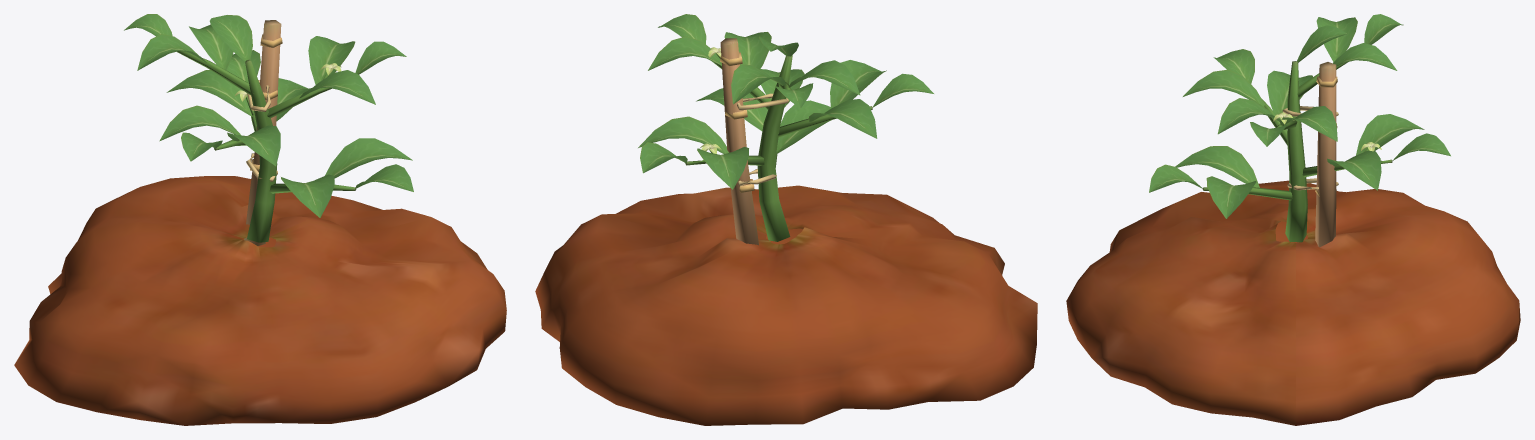
The picture shows the model from 3 angles, left to right: view 1: azimuth 30°, elevation 25°; view 2: azimuth 150°, elevation 25°; view 3: azimuth 270°, elevation 25°; orthographic projection. The views are drawn at different scales.
Visible parts, largest first — view 1: pepper-growing; view 2: pepper-growing; view 3: pepper-growing.
Part boxes in pixels (x1=…): pepper-growing: x1=14, y1=14, x2=506, y2=425; pepper-growing: x1=535, y1=14, x2=1037, y2=425; pepper-growing: x1=1066, y1=14, x2=1520, y2=425.
Size of the model in its own units: 0.7926 by 0.501 by 0.7248.
1 material, 1 textured.
